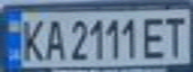1: (121, 15, 142, 60), (103, 15, 124, 60), (87, 16, 106, 61)
2: (66, 16, 90, 61)
A: (39, 15, 69, 62)
E: (139, 12, 172, 60)
K: (15, 15, 48, 63)
T: (160, 12, 190, 59)
